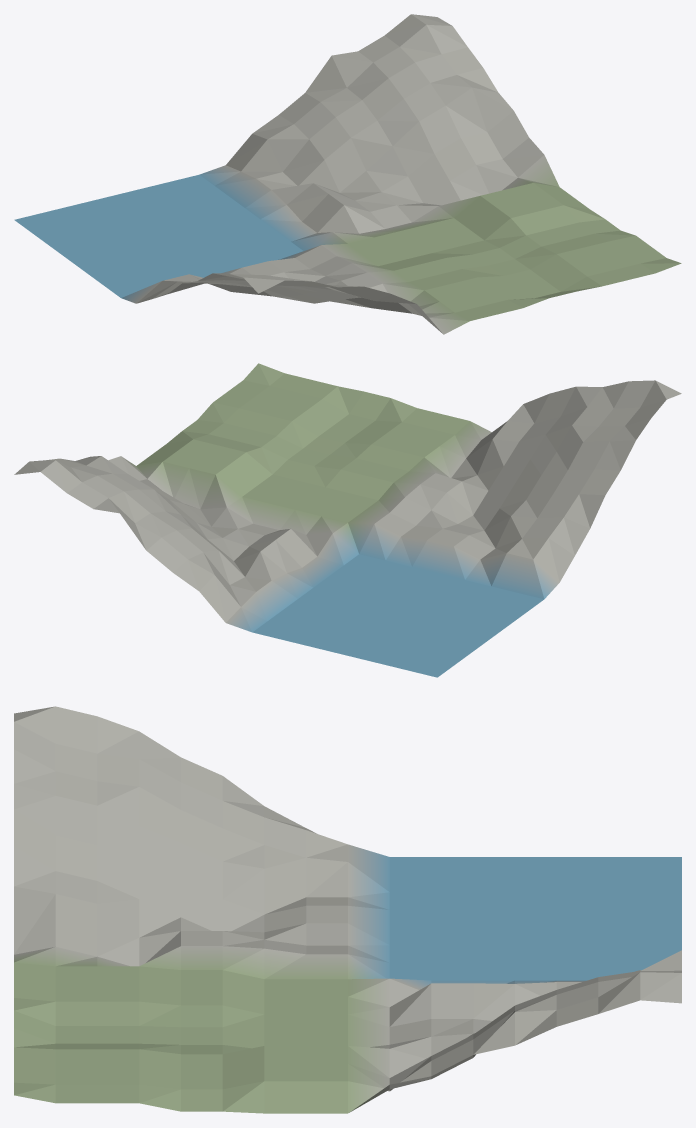
The picture shows the model from 3 angles, top to bottom: view 1: azimuth 30°, elevation 25°; view 2: azimuth 150°, elevation 25°; view 3: azimuth 270°, elevation 25°; orthographic projection. The views are drawn at different scales.
Bounding box in the file's own units: 32 × 8.08 × 32.
